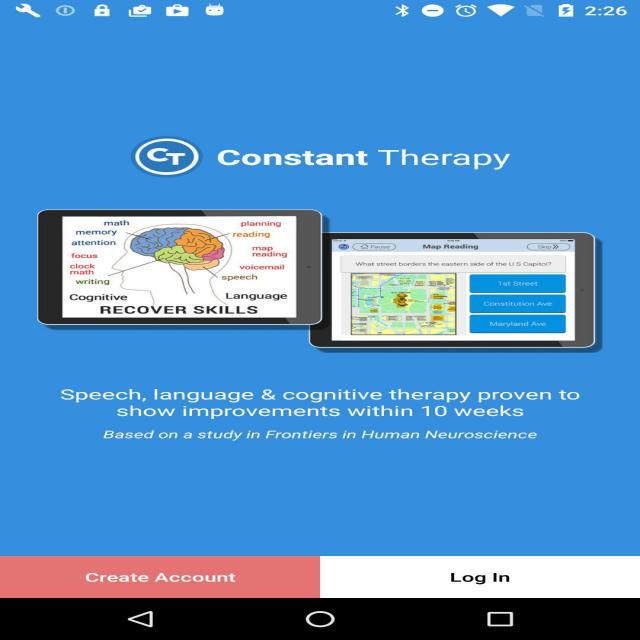button: (3, 525, 640, 606)
image: (27, 189, 631, 375), (125, 131, 236, 186)
text: (53, 384, 620, 464), (226, 134, 574, 182)
